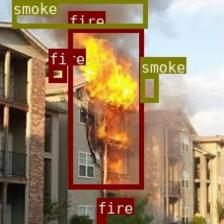fire: (68, 27, 142, 188), (48, 65, 66, 81), (96, 213, 105, 223)
smoke: (12, 0, 146, 27), (140, 73, 157, 101)
